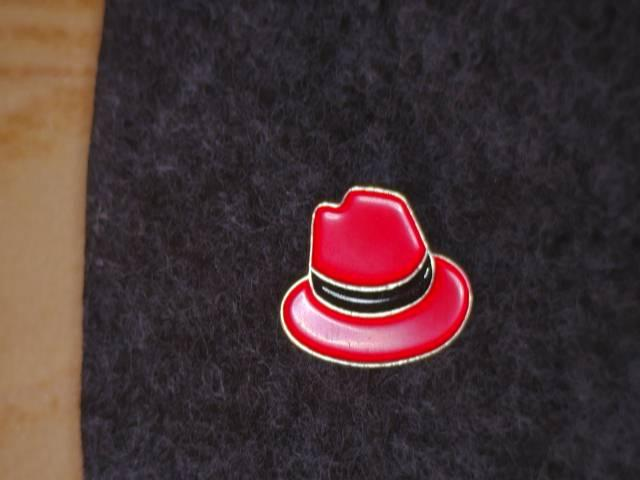Red-Hat: (262, 156, 487, 385)
